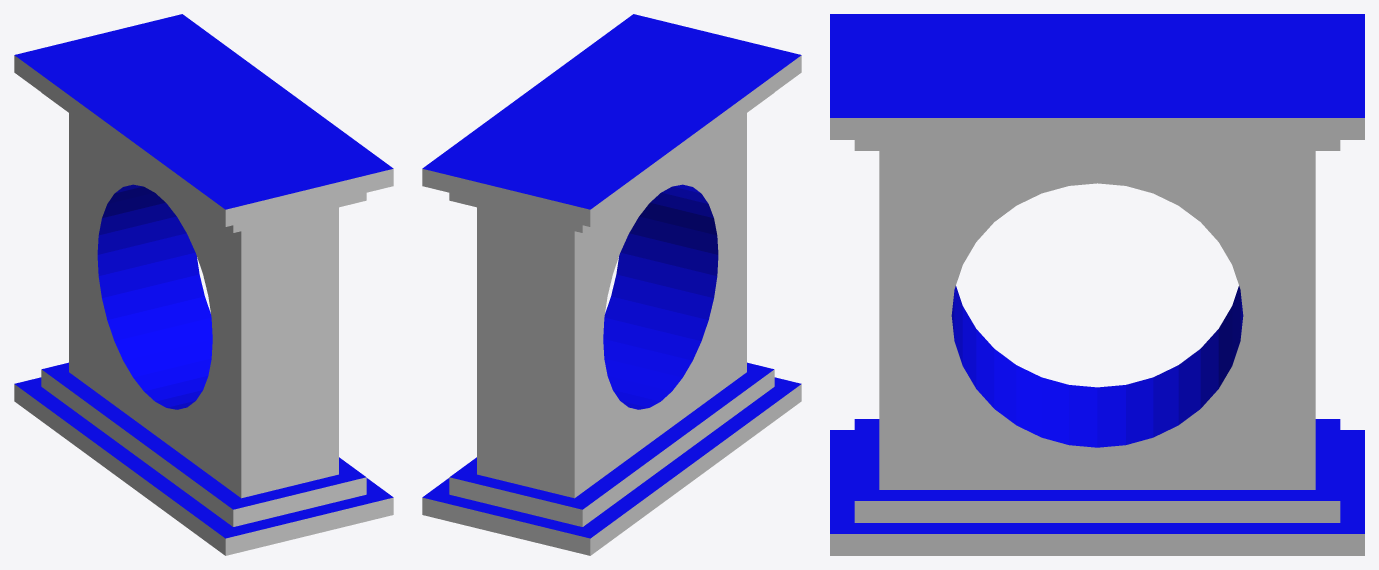
Rendered from wall.gltf.
3 views of the same model, side by side, from view 1: azimuth 30°, elevation 25°; view 2: azimuth 150°, elevation 25°; view 3: azimuth 270°, elevation 25° (orthographic). The views are drawn at different scales.
Visible parts, largest first — view 1: Cube; view 2: Cube; view 3: Cube.
Part boxes in pixels (left/top/right/bottom): Cube: left=14, top=14, right=393, bottom=555; Cube: left=422, top=14, right=801, bottom=555; Cube: left=830, top=14, right=1364, bottom=555.
Size of the model in its own units: 2.02 by 3.98 by 4.4.
